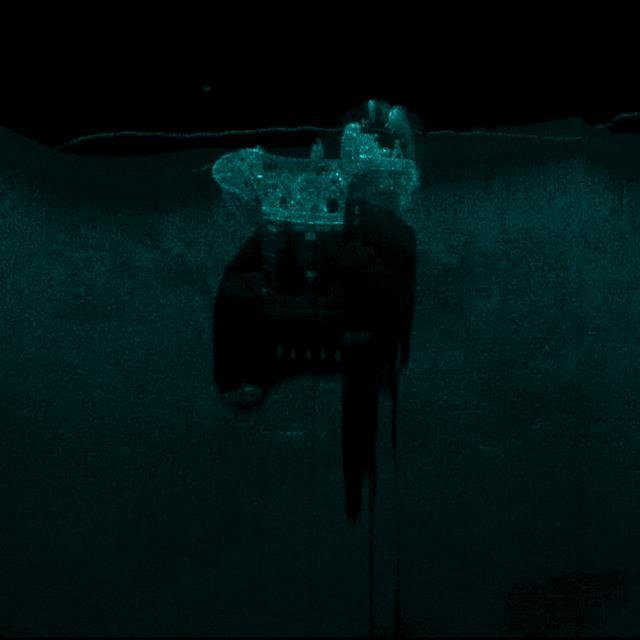shipwreck: (205, 96, 428, 236)
